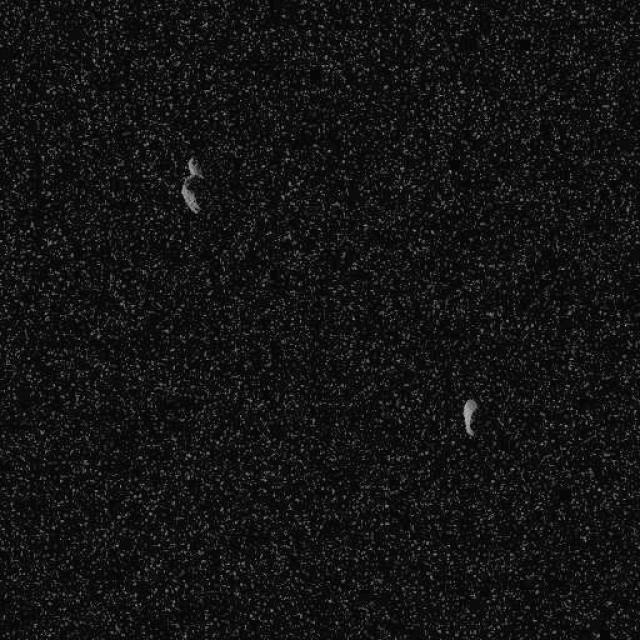D2: (179, 154, 206, 214), (462, 398, 478, 438)
